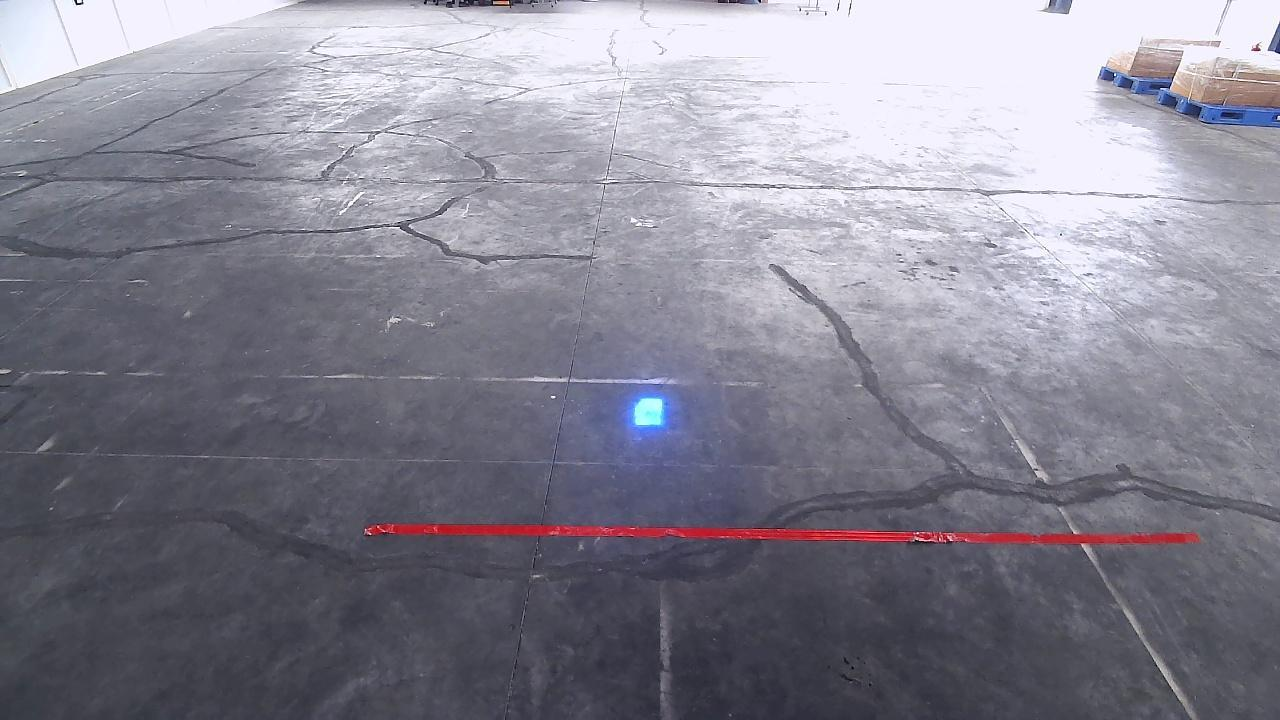red_line: (367, 527, 1201, 542)
